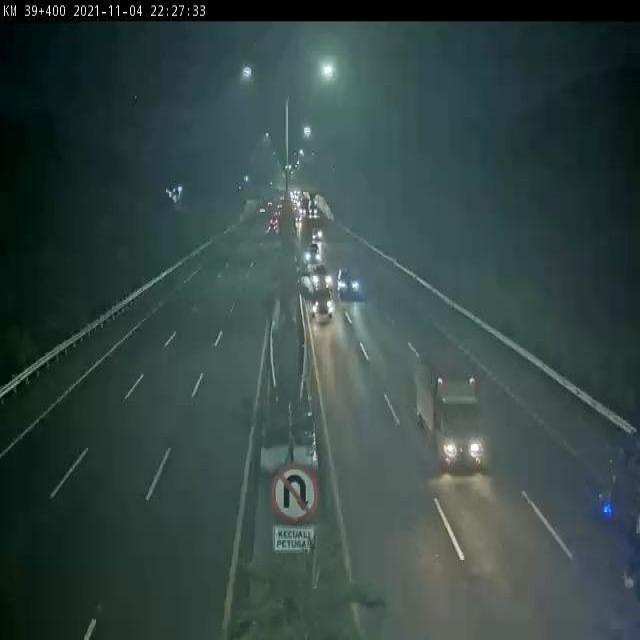car: (337, 268, 364, 301), (311, 286, 334, 314), (311, 266, 333, 290)
truck-s-: (412, 345, 483, 467)
